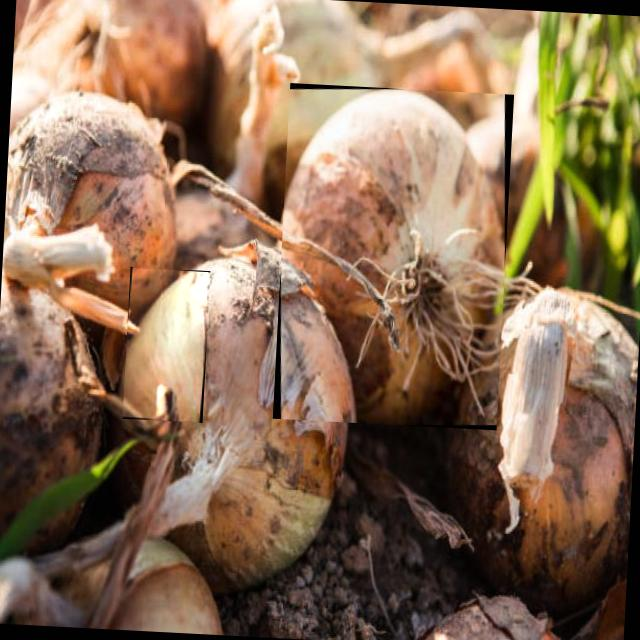healthy: (283, 89, 505, 425), (124, 272, 201, 421)
